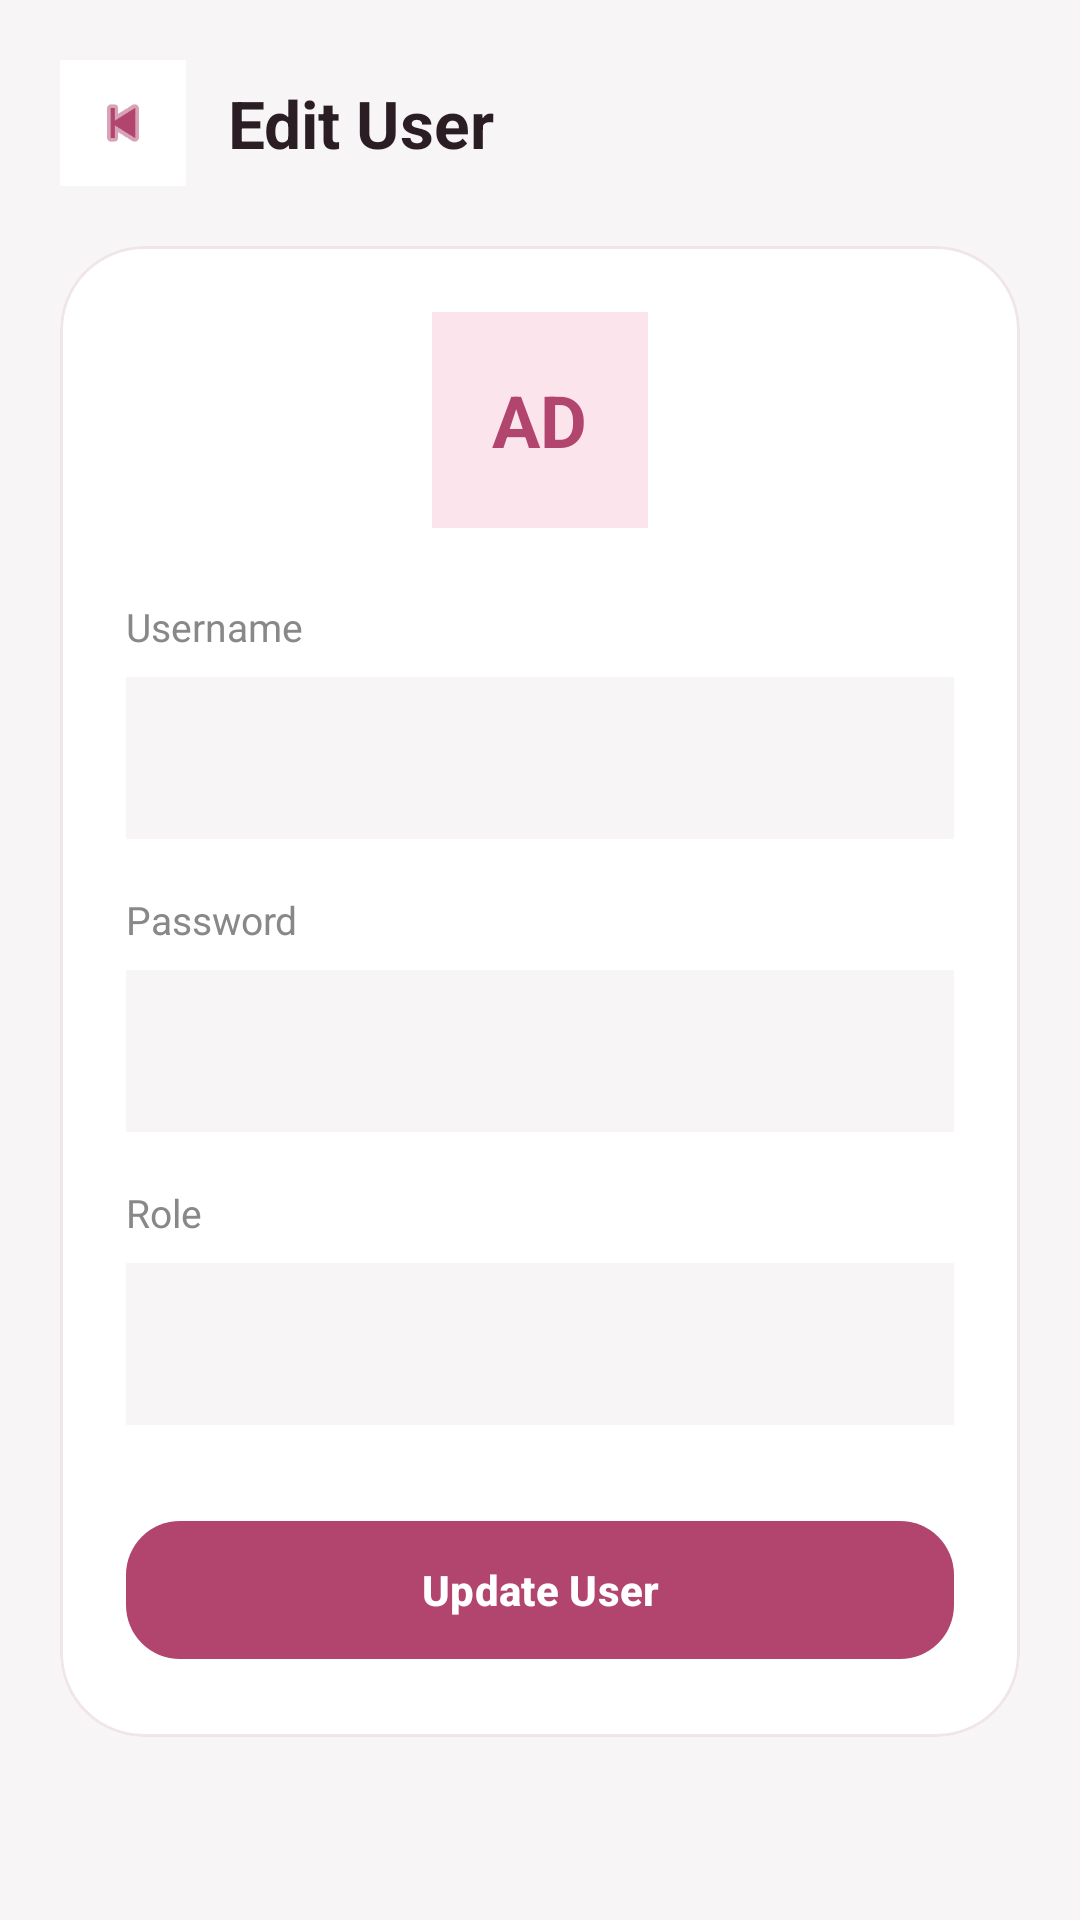

Where icons sit on this 1080px×1920px app screen, as box=[x1, y1, x2, y2]:
previous: box=[107, 104, 139, 142]
